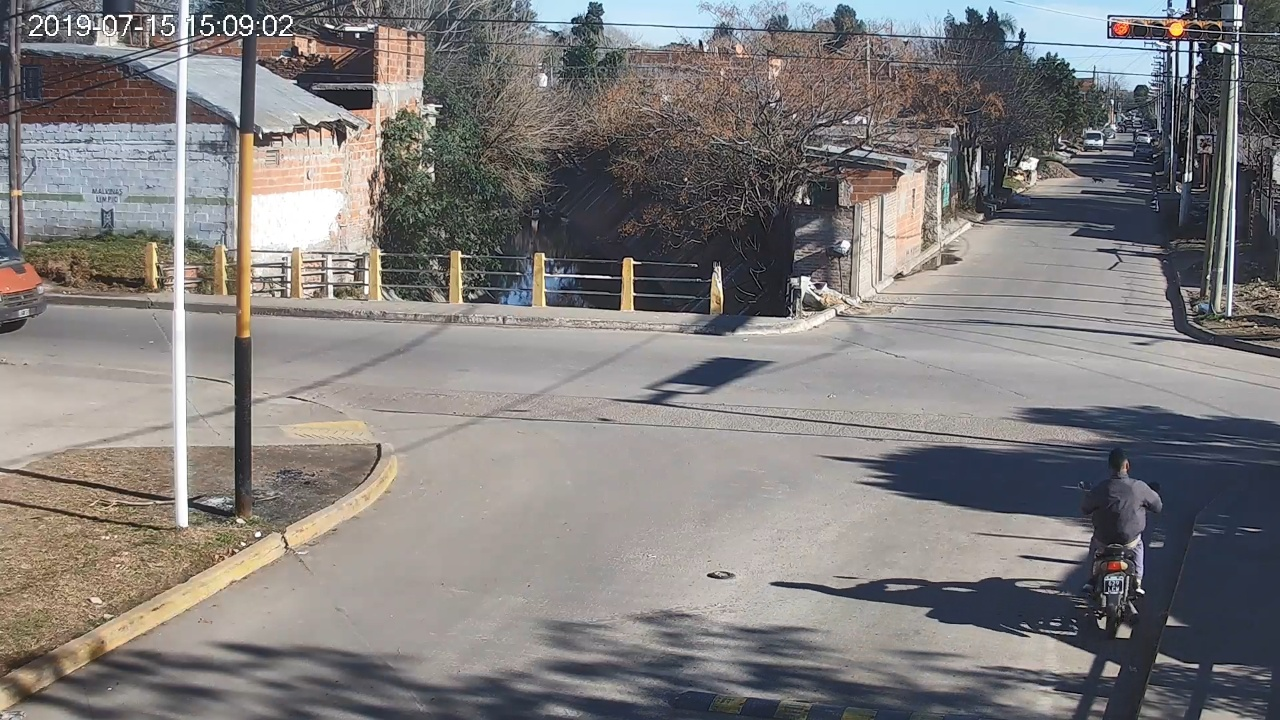motorcycle: (1077, 474, 1163, 639)
traffic light: (1110, 19, 1221, 40)
